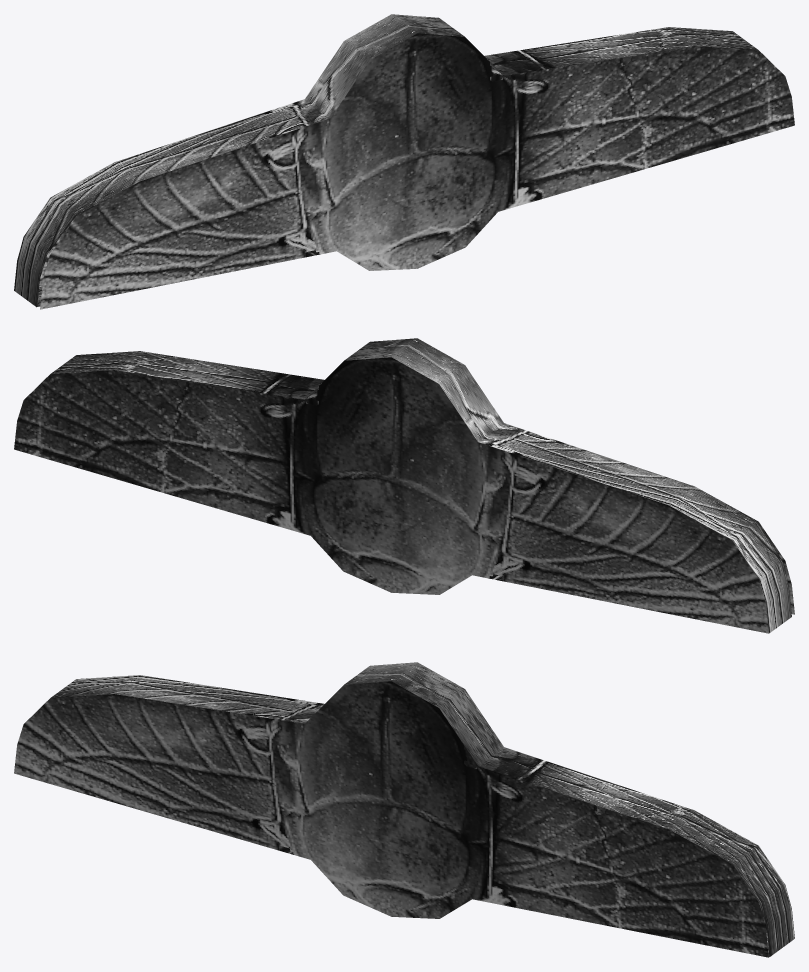
The model's file is winged scarab.FBX.
3 views of the same model, one above another, from view 1: azimuth 30°, elevation 25°; view 2: azimuth 150°, elevation 25°; view 3: azimuth 330°, elevation 25° (orthographic).
Visible parts, largest first — view 1: Box002; view 2: Box002; view 3: Box002.
Part boxes in pixels (<box>): Box002: <box>14,14,794,309</box>; Box002: <box>14,338,794,633</box>; Box002: <box>14,662,794,957</box>.
Bounding box in the file's own units: 8.35 × 2.49 × 0.4973.
1 material, 1 textured.
